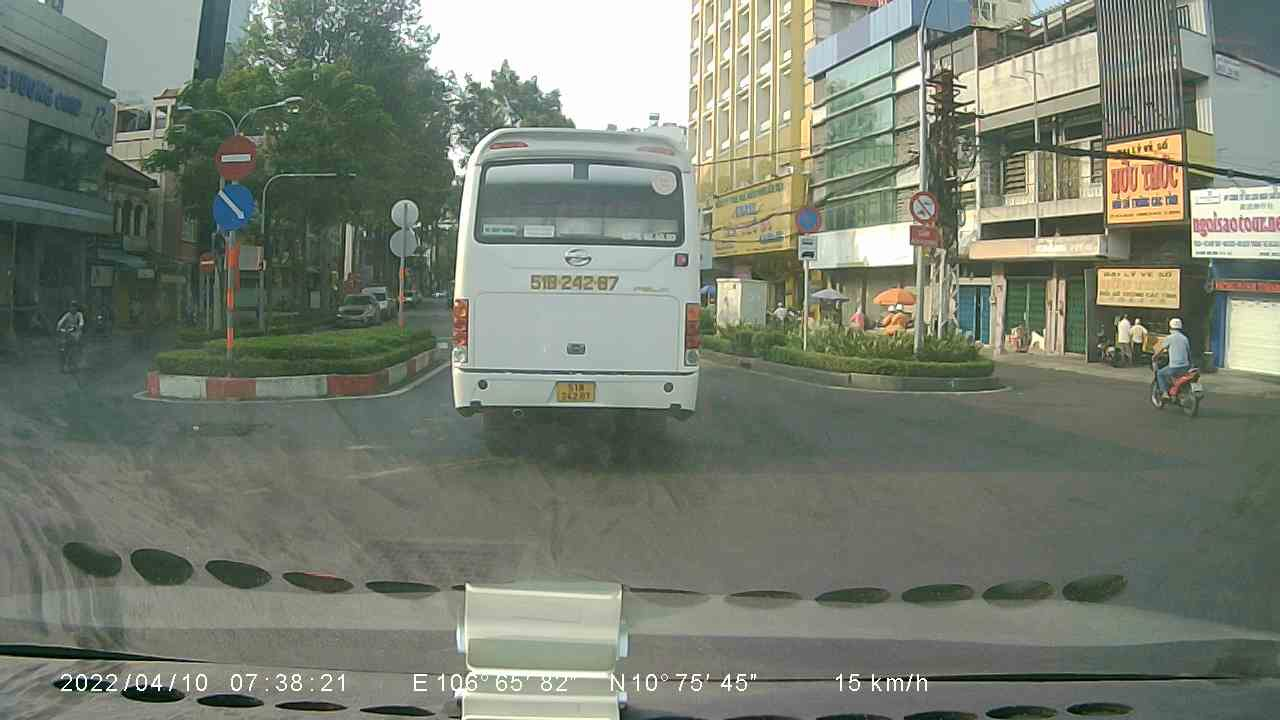Bien khac: (907, 190, 938, 221)
Cam di nguoc chieu: (210, 132, 259, 180)
Cam do xe: (794, 202, 826, 229)
Huong di phai re phai: (210, 181, 252, 232)
